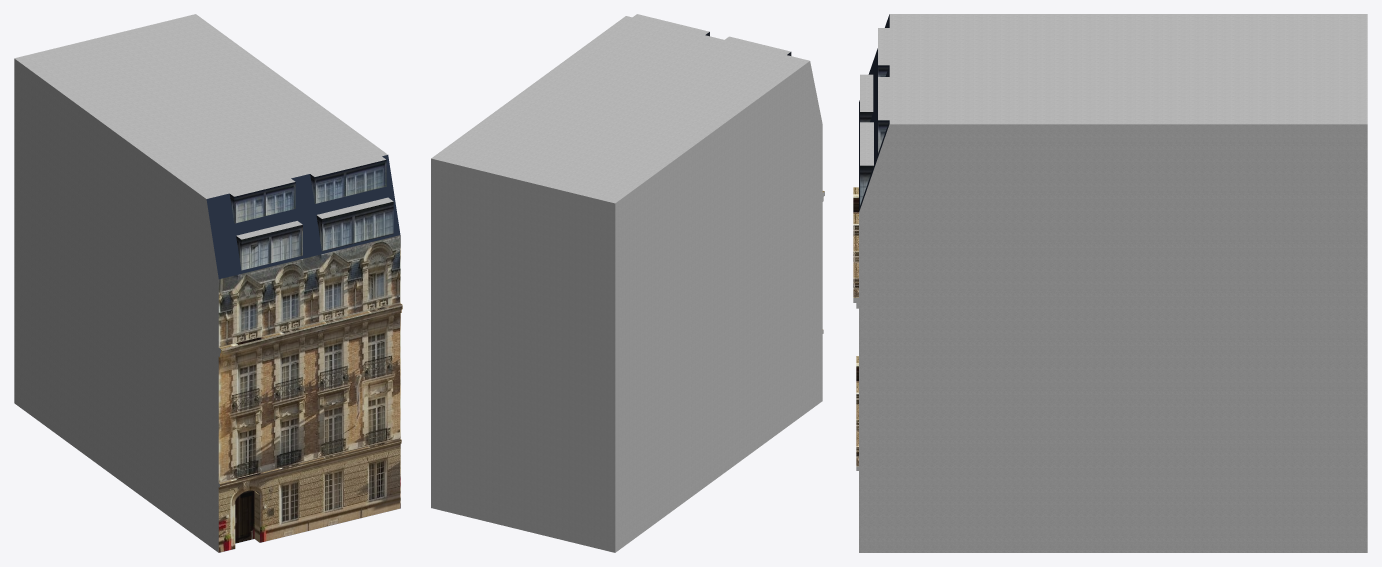
The picture shows the model from 3 angles, left to right: view 1: azimuth 30°, elevation 25°; view 2: azimuth 150°, elevation 25°; view 3: azimuth 270°, elevation 25°; orthographic projection. The views are drawn at different scales.
Parts seen in each view (by area): view 1: SketchUp (×7); view 2: SketchUp; view 3: SketchUp (×4).
Boxes of the visible parts, box(x1,y1,x2,y2) form: SketchUp (×7): box(14, 14, 402, 552); SketchUp: box(431, 14, 824, 552); SketchUp (×4): box(853, 14, 1367, 552).
Size of the model in its own units: 521 by 1028 by 945.
Materials: 4 (2 with a texture image).
